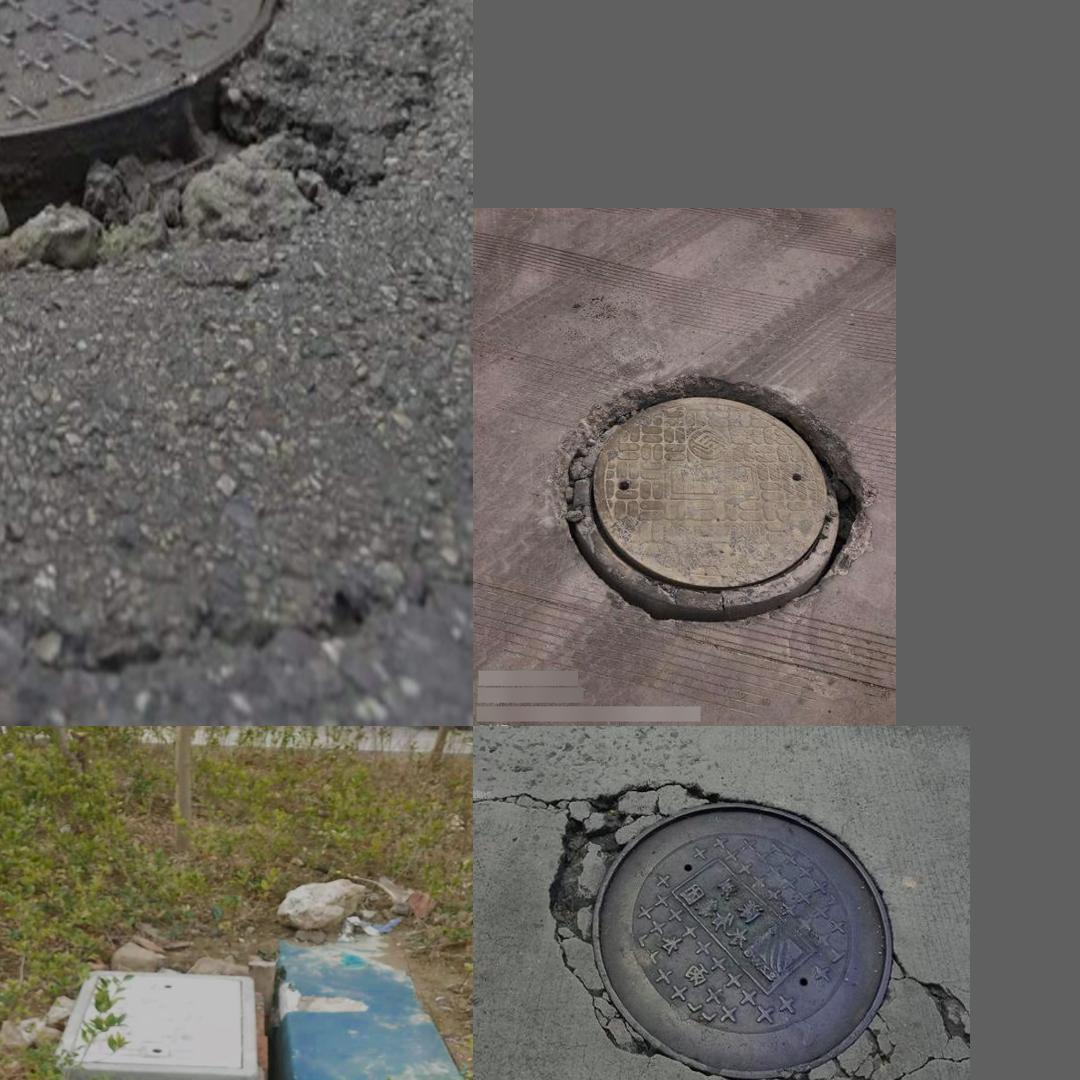circle: (0, 0, 441, 403), (541, 769, 960, 1080), (557, 377, 860, 627), (39, 959, 299, 1080)
